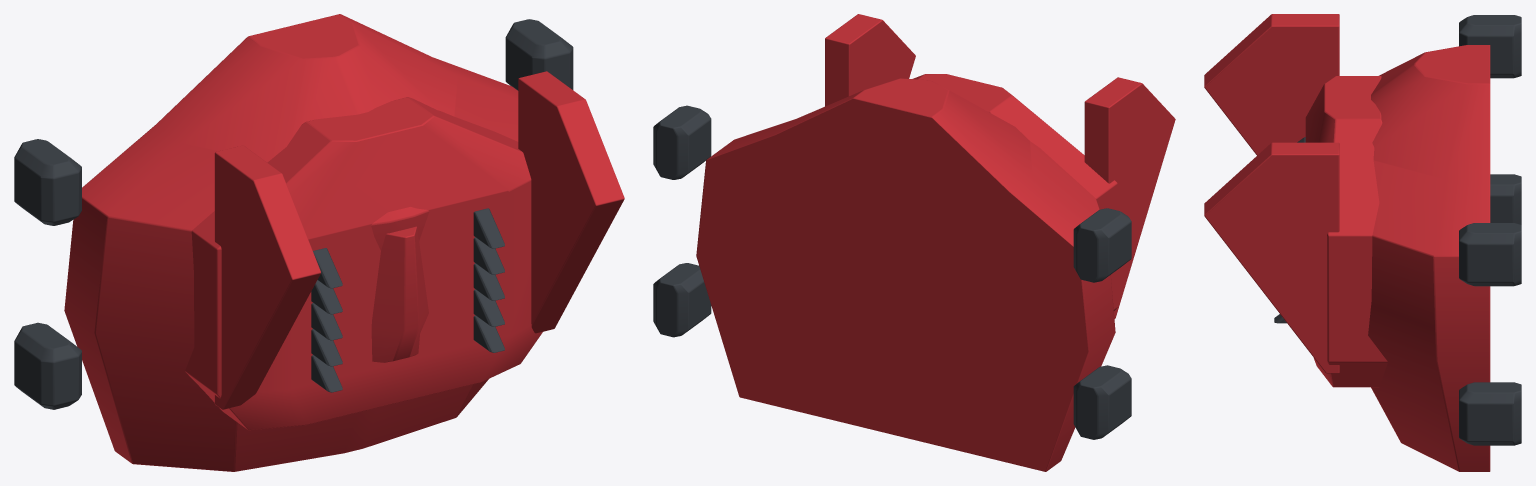
The model's file is ShoulderFront_Set04_Ripjaw.fbx.
3 renders of one model, left to right at view 1: azimuth 30°, elevation 25°; view 2: azimuth 150°, elevation 25°; view 3: azimuth 270°, elevation 25°, orthographic. The views are drawn at different scales.
Parts seen in each view (by area): view 1: ShoulderFront_Set04_Ripjaw; view 2: ShoulderFront_Set04_Ripjaw; view 3: ShoulderFront_Set04_Ripjaw.
Boxes of the visible parts, x1,y1,x2,y2 form: ShoulderFront_Set04_Ripjaw: (14,14,624,471); ShoulderFront_Set04_Ripjaw: (653,14,1175,471); ShoulderFront_Set04_Ripjaw: (1204,14,1521,471).
Bounding box in the file's own units: 0.51 × 0.35 × 0.3033.
